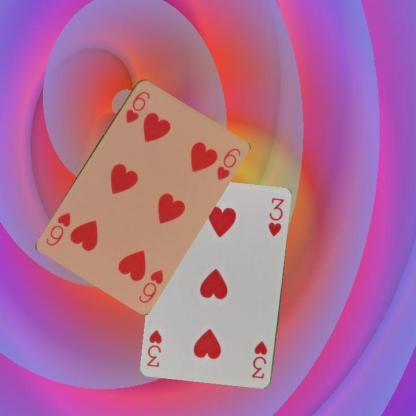3h: (249, 339, 269, 380)
6h: (122, 88, 152, 125), (136, 266, 164, 304)
